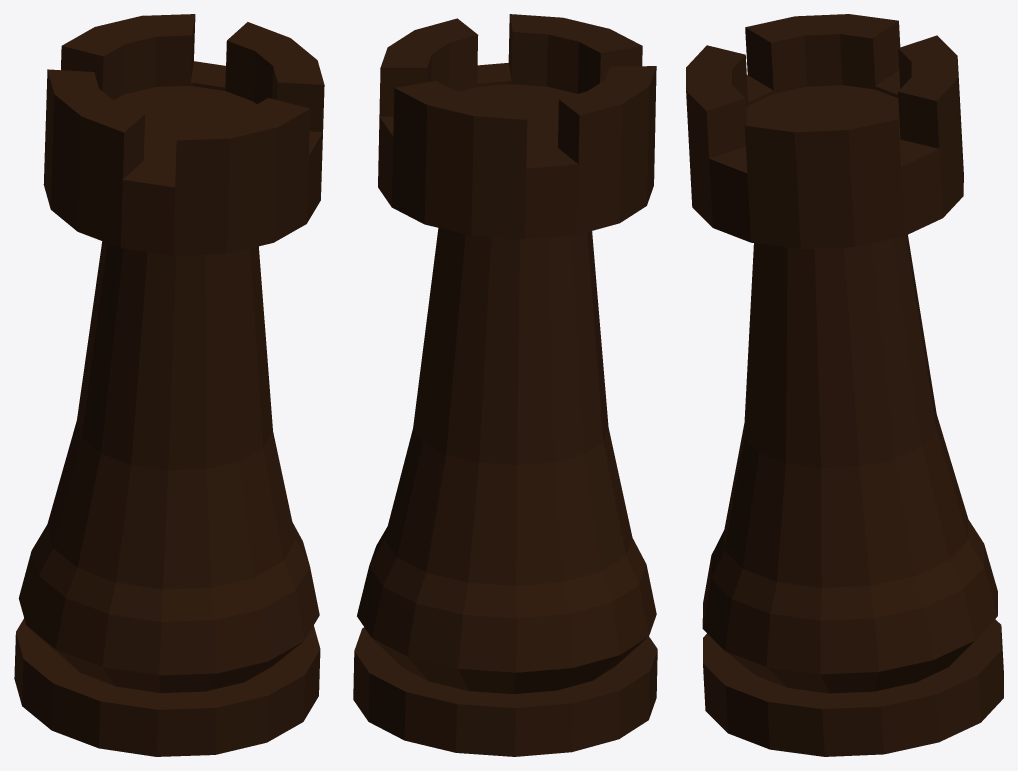
File: Rook.fbx
3 views of the same model, side by side, from view 1: azimuth 30°, elevation 25°; view 2: azimuth 150°, elevation 25°; view 3: azimuth 270°, elevation 25° (orthographic).
Visible parts, largest first — view 1: Plane.003; view 2: Plane.003; view 3: Plane.003.
Boxes of the visible parts, bbox=[...] form: Plane.003: bbox=[14, 14, 324, 756]; Plane.003: bbox=[353, 14, 657, 756]; Plane.003: bbox=[686, 14, 1003, 756].
Size of the model in its own units: 32.33 by 75.46 by 34.36.
